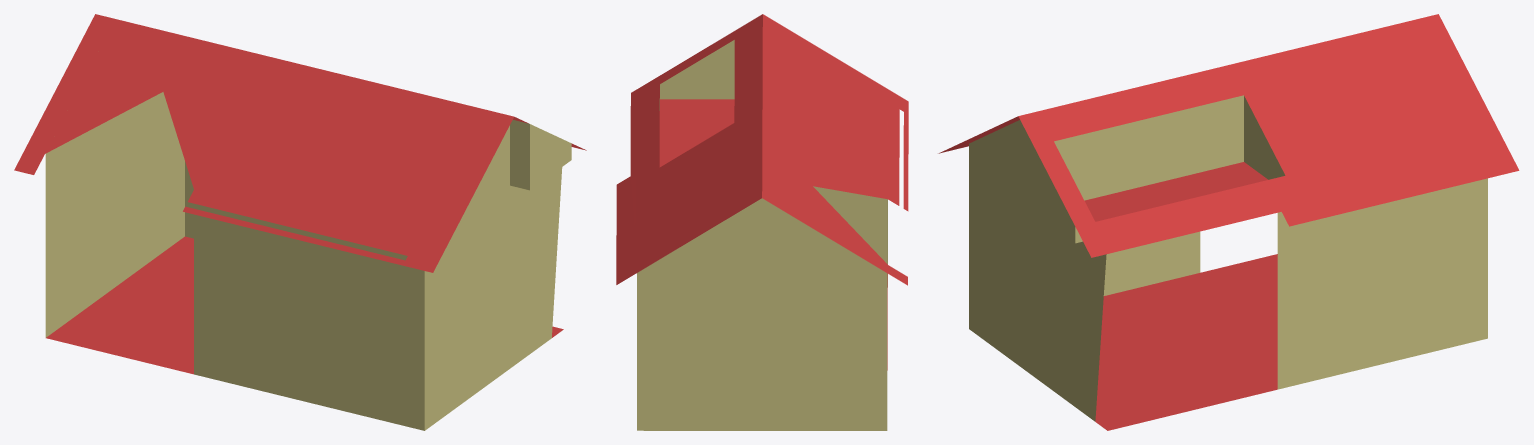
3 views of the same model, side by side, from view 1: azimuth 30°, elevation 25°; view 2: azimuth 150°, elevation 25°; view 3: azimuth 270°, elevation 25° (orthographic). The views are drawn at different scales.
Size of the model in its own units: 16.56 by 18.91 by 9.63.
